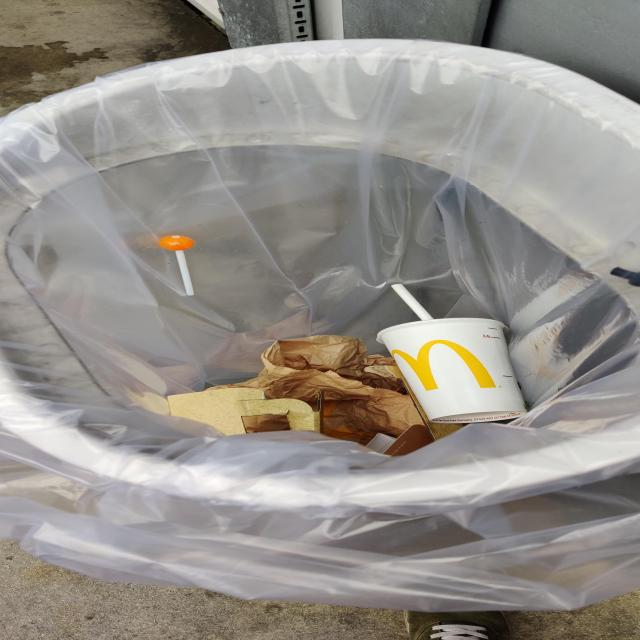litter: (127, 327, 478, 482), (338, 272, 554, 443), (138, 228, 206, 296)
